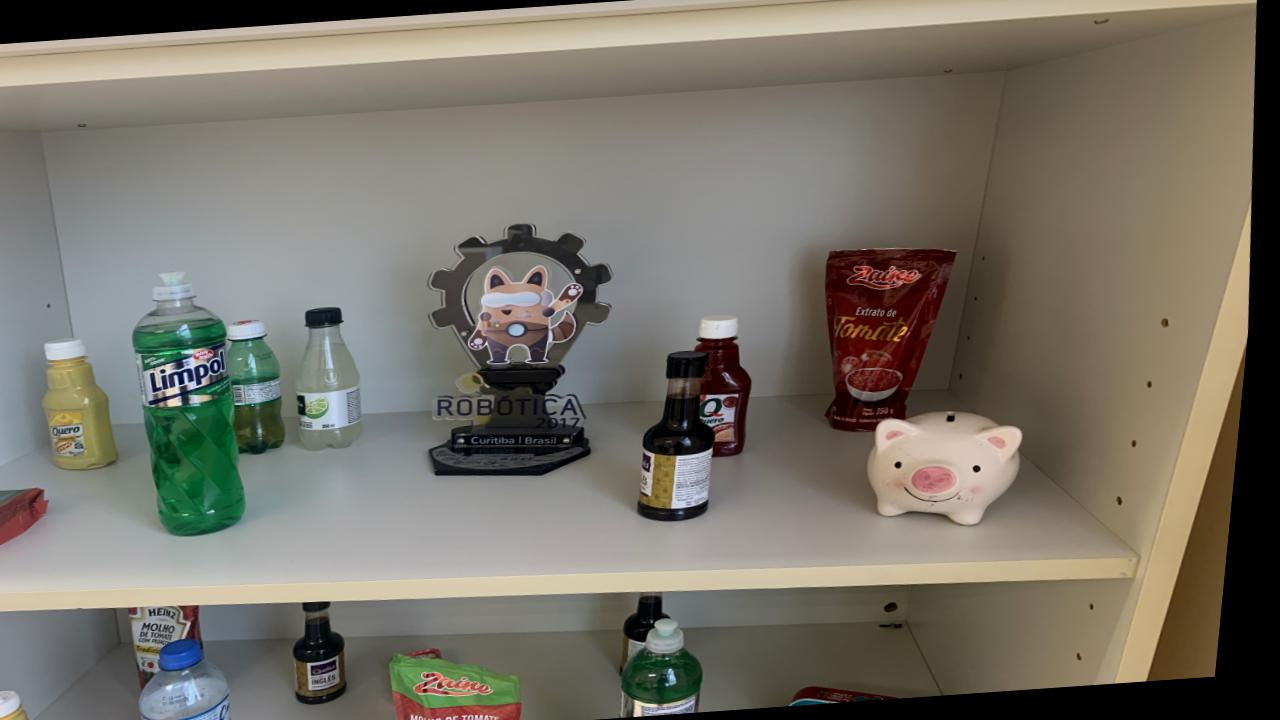Detergent-Cleanup_Items: (139, 272, 256, 535), (636, 619, 716, 717)
English_Sauce-Pantry_Items: (647, 350, 723, 520), (305, 602, 360, 704), (633, 591, 681, 669)
Guarana-Drinks: (234, 319, 294, 454)
Guava-Snacks: (0, 487, 58, 549)
Ketchup-Pantry_Items: (703, 314, 758, 457)
Mustard-Pantry_Items: (51, 339, 126, 470), (0, 691, 42, 720)
Pig_Safe-Miscellaneous: (878, 411, 1031, 525)
Soda-Drinks: (302, 306, 369, 450)
Tomato_Sauce-Pantry_Items: (831, 247, 962, 431), (403, 648, 536, 720), (140, 604, 215, 687)
Trophy-Miscellaneous: (433, 223, 618, 476)
Tuna_Can-Pantry_Items: (804, 685, 909, 706)
Water_Bottle-Drinks: (152, 637, 245, 720)
